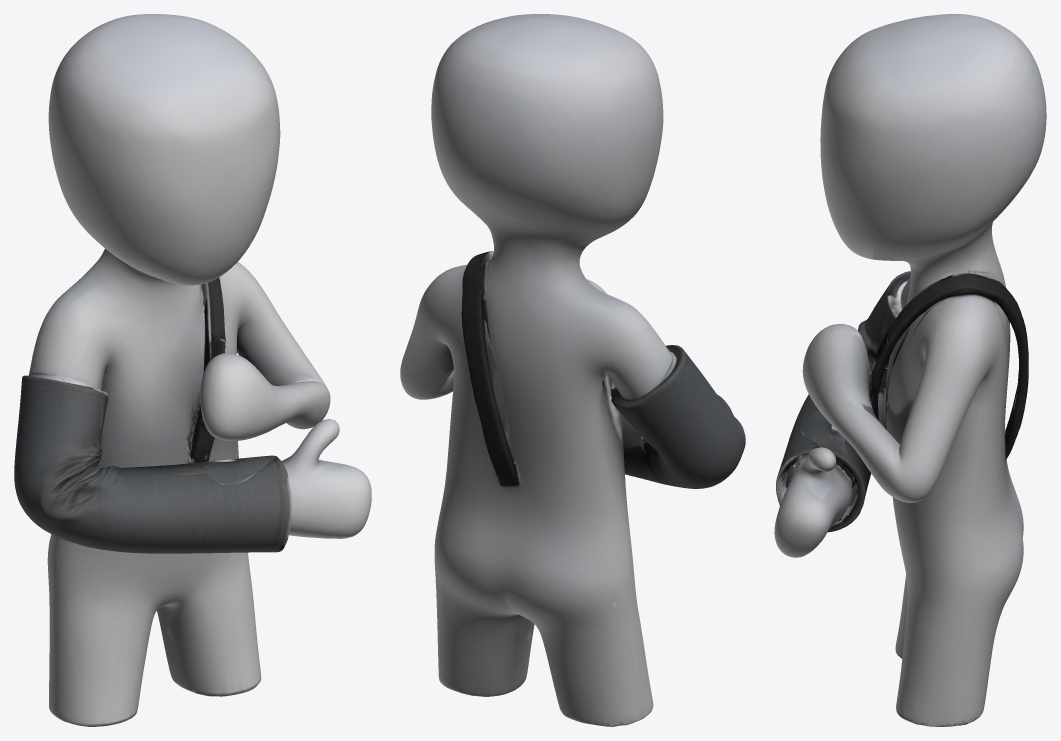
File: arm_sling.glb
The picture shows the model from 3 angles, left to right: view 1: azimuth 30°, elevation 25°; view 2: azimuth 150°, elevation 25°; view 3: azimuth 270°, elevation 25°; orthographic projection. The views are drawn at different scales.
Parts seen in each view (by area): view 1: mvadapter_node_3d4cbb43-1446-4480-a01b-bf975da94db8-e1_textu; view 2: mvadapter_node_3d4cbb43-1446-4480-a01b-bf975da94db8-e1_textu; view 3: mvadapter_node_3d4cbb43-1446-4480-a01b-bf975da94db8-e1_textu.
Boxes of the visible parts, x1,y1,x2,y2 form: mvadapter_node_3d4cbb43-1446-4480-a01b-bf975da94db8-e1_textu: (14,14,371,726); mvadapter_node_3d4cbb43-1446-4480-a01b-bf975da94db8-e1_textu: (400,14,745,726); mvadapter_node_3d4cbb43-1446-4480-a01b-bf975da94db8-e1_textu: (774,14,1046,726).
Bounding box in the file's own units: 0.9424 × 1.88 × 0.7121.
Materials: 1 (1 with a texture image).
